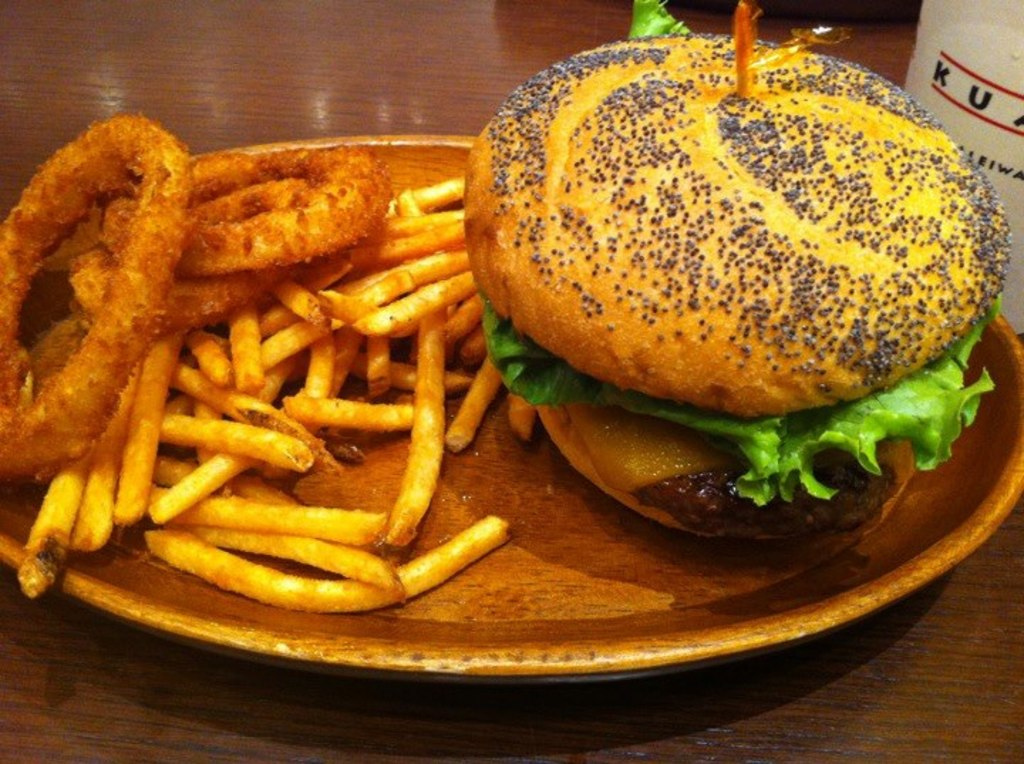French fries: (18, 162, 543, 614)
